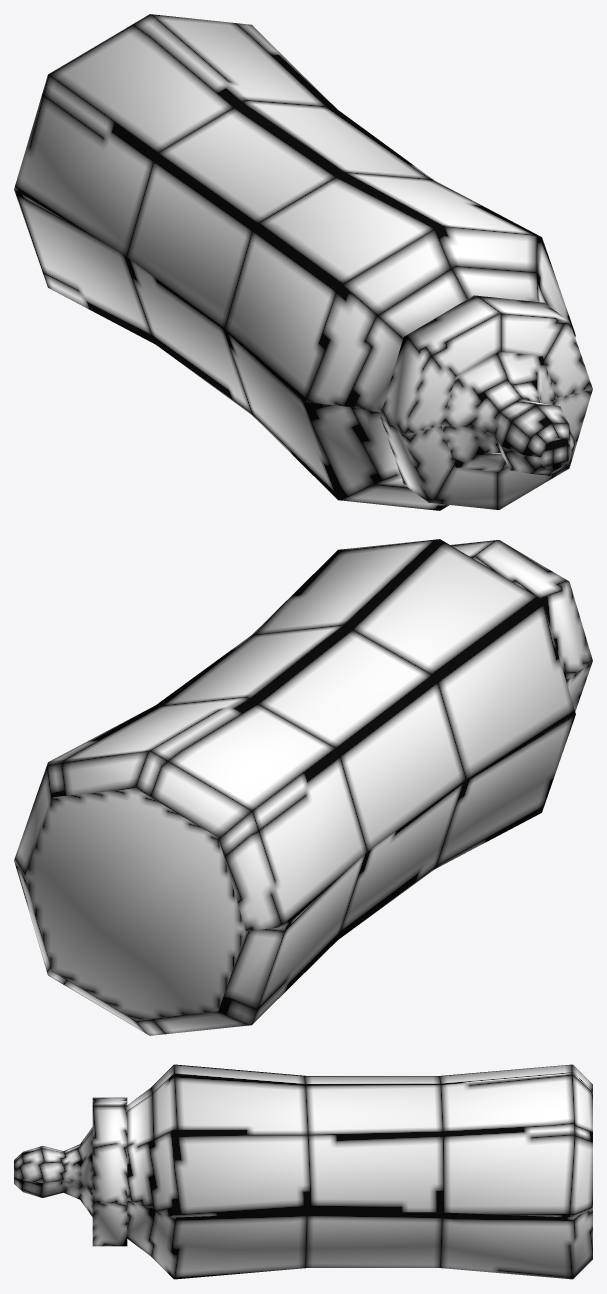
Rendered from MilkBottle.obj.
3 views of the same model, one above another, from view 1: azimuth 30°, elevation 25°; view 2: azimuth 150°, elevation 25°; view 3: azimuth 270°, elevation 25° (orthographic). The views are drawn at different scales.
Visible parts, largest first — view 1: Cube1; view 2: Cube1; view 3: Cube1.
Part boxes in pixels (x1,y1,x2,y2): Cube1: (14, 14, 592, 510); Cube1: (14, 539, 592, 1035); Cube1: (14, 1064, 592, 1279).
Size of the model in its own units: 0.656 by 0.656 by 1.76.
Materials: 1 (1 with a texture image).
